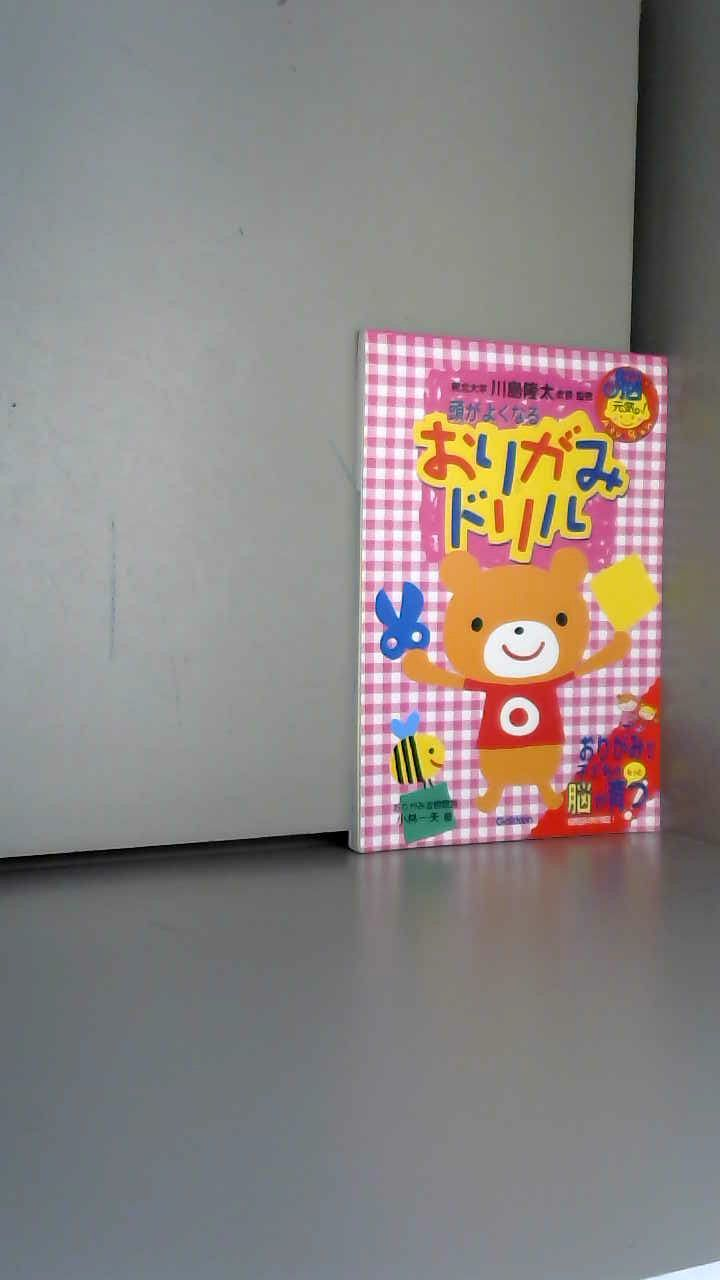book: (330, 310, 718, 883)
